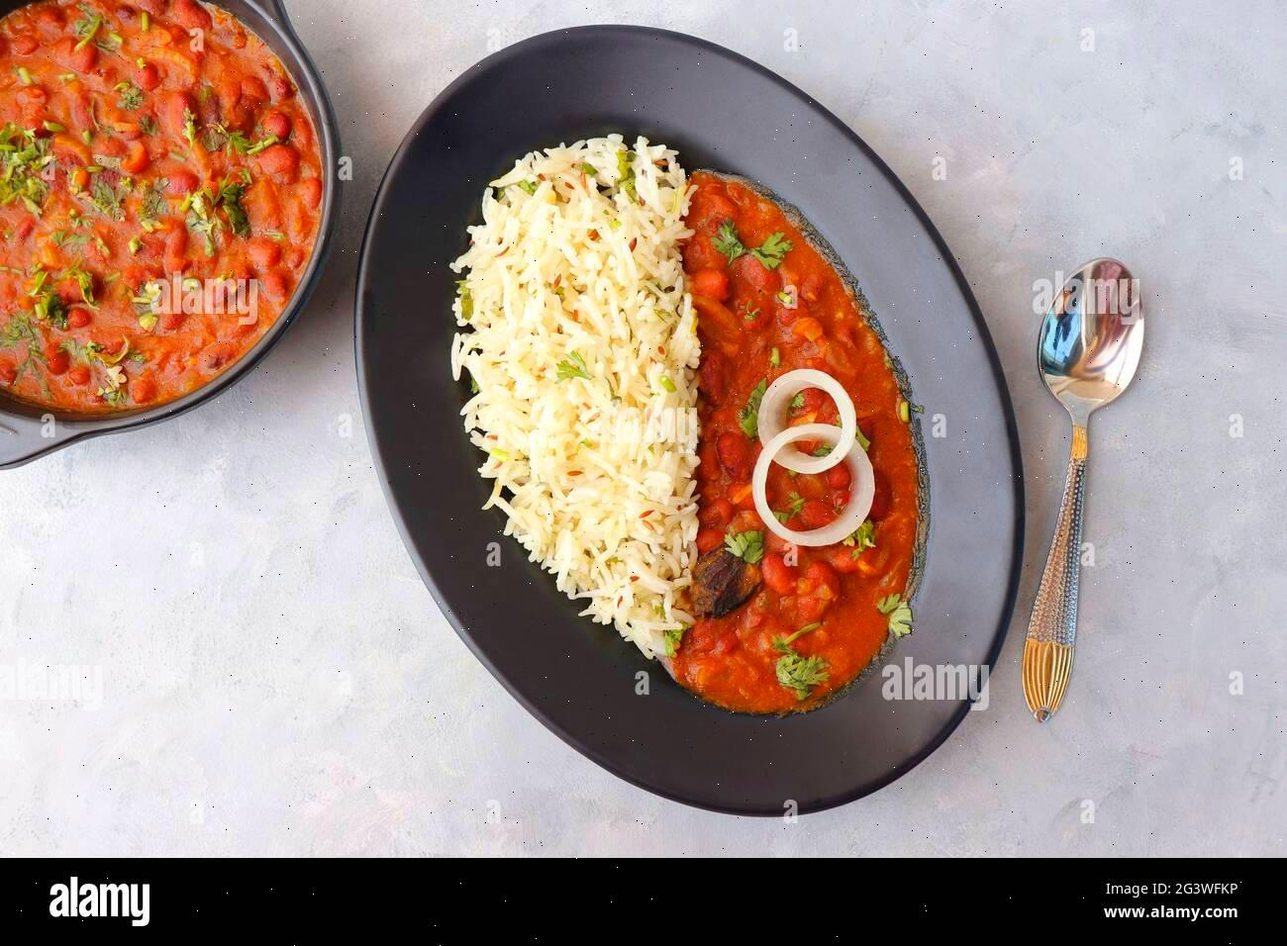rajma: (693, 188, 916, 722)
rice: (478, 148, 693, 685)
